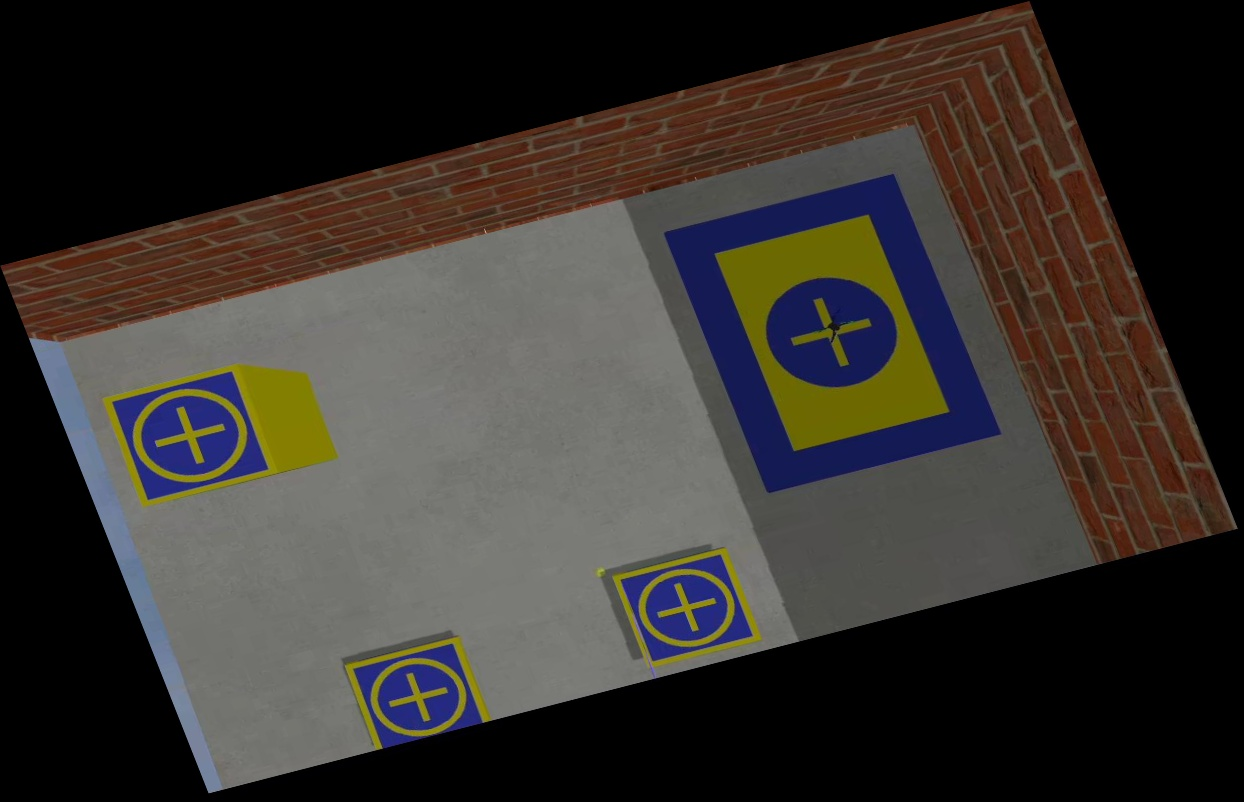large_base: (662, 168, 1006, 495)
small_base: (99, 360, 283, 509), (607, 543, 765, 668), (342, 633, 493, 751)
